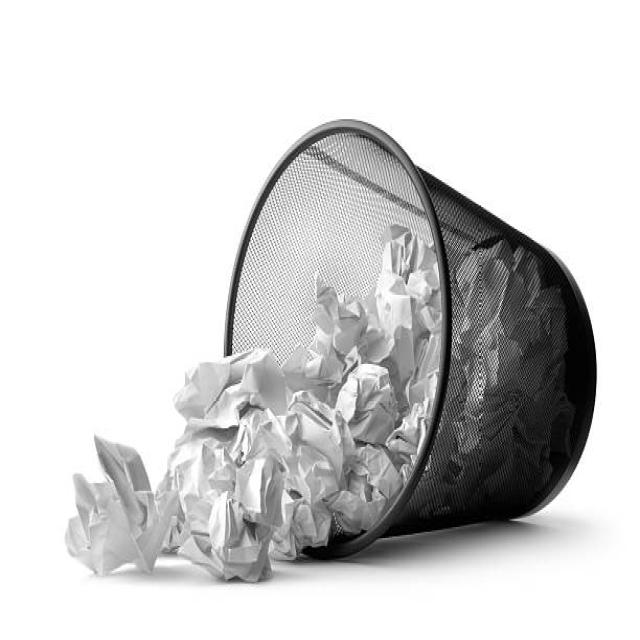electronic: (157, 345, 293, 582), (64, 433, 177, 576)
